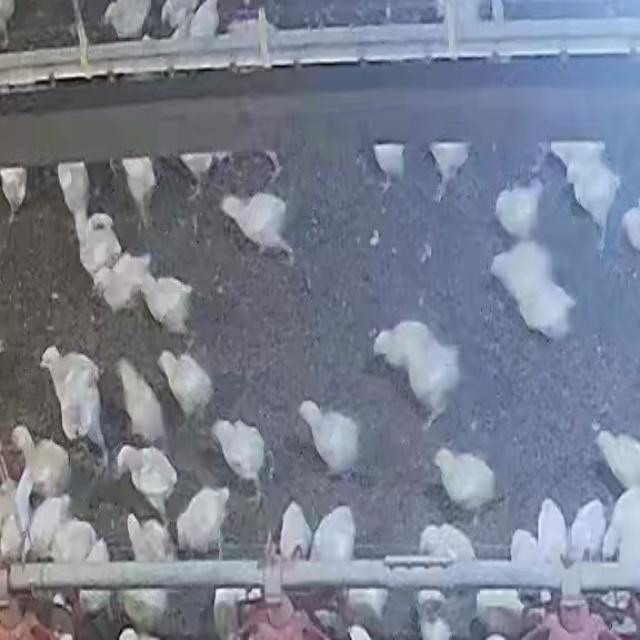chicken: (38, 345, 108, 459), (492, 242, 571, 336), (551, 143, 620, 244), (296, 399, 361, 476), (116, 443, 180, 521), (12, 421, 72, 500), (218, 192, 292, 255), (210, 418, 269, 497), (401, 340, 460, 419), (433, 446, 498, 514), (135, 266, 193, 336), (160, 350, 213, 424), (173, 488, 234, 551), (130, 511, 179, 589), (474, 580, 542, 636), (372, 318, 436, 376), (419, 524, 478, 585), (94, 254, 148, 318), (48, 518, 86, 604), (533, 495, 573, 572), (605, 488, 640, 575), (26, 493, 70, 558), (74, 539, 113, 612), (494, 182, 542, 240), (310, 506, 358, 564), (121, 158, 159, 230), (79, 212, 121, 276), (596, 430, 640, 491), (509, 531, 548, 599), (122, 583, 172, 635), (57, 145, 90, 223), (223, 0, 276, 46), (568, 499, 606, 562), (279, 501, 313, 561), (102, 0, 154, 38), (0, 166, 28, 223), (187, 0, 223, 40), (180, 152, 218, 187)
